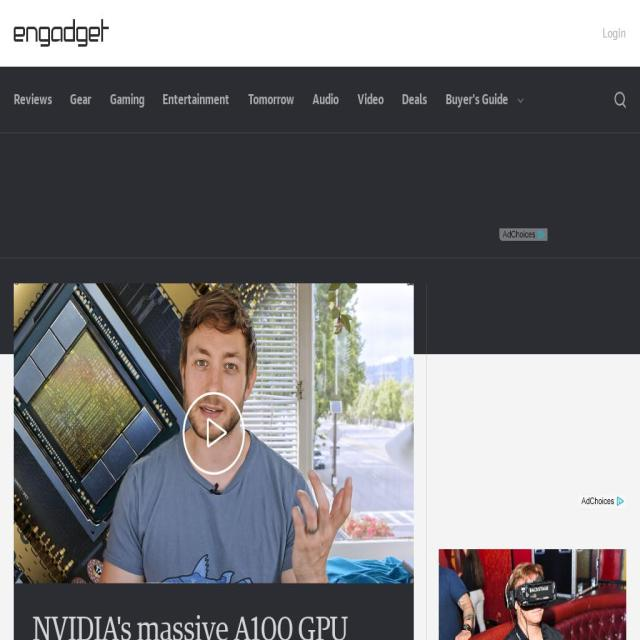button: (14, 583, 414, 640), (439, 549, 626, 640), (13, 19, 108, 47), (445, 88, 537, 114), (500, 228, 548, 241), (578, 495, 626, 507), (614, 92, 626, 108)
heading: (32, 612, 348, 640), (13, 19, 108, 47)
iframe: (439, 283, 626, 492), (92, 150, 548, 225)
image: (14, 284, 414, 584), (0, 258, 640, 354), (439, 549, 626, 640), (183, 371, 245, 496), (500, 228, 548, 241), (578, 495, 626, 507), (614, 92, 626, 108), (516, 98, 524, 104)
text: (162, 94, 230, 108), (445, 94, 511, 108), (248, 94, 294, 108), (14, 94, 52, 108), (110, 94, 144, 108), (312, 94, 340, 108), (357, 94, 384, 108), (402, 94, 427, 108), (602, 27, 626, 40), (70, 94, 92, 108)
